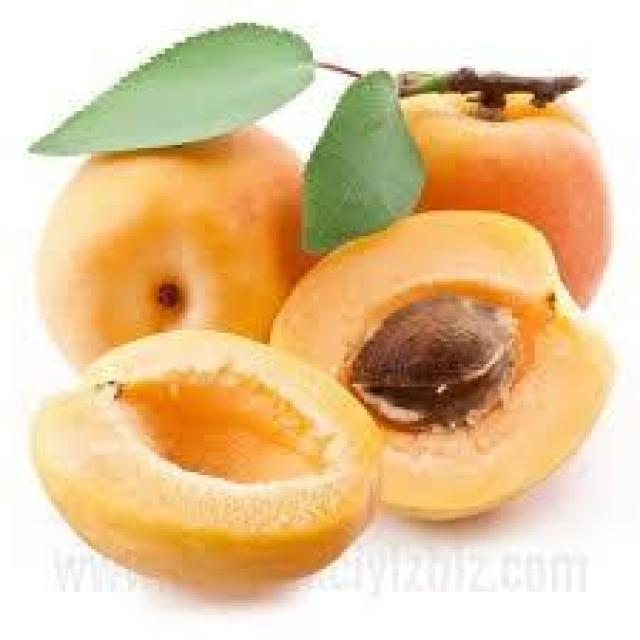cekirdek: (339, 291, 532, 433)
kayisi: (262, 199, 623, 526), (23, 318, 397, 599), (34, 112, 327, 381)
yaprak: (17, 12, 319, 162), (292, 68, 435, 261)
